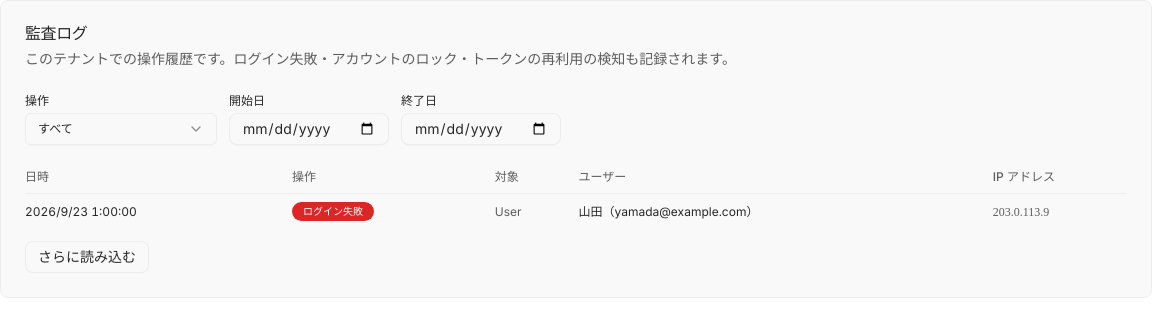
Test: AuditLogSection（#89） › 操作を日本語で表示し、続きのページを読み込める
This screenshot has width=1152, height=315.
Check: the text "ログイン失敗" is shown, box [292,202,374,221]
Click the button "さらに読み込む": (87, 257) [25,241,149,273]
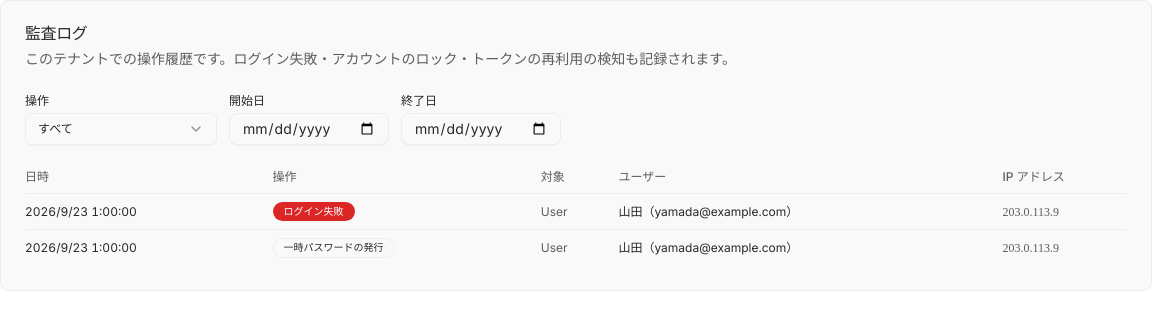
Check: the text "一時パスワードの発行" is shown, box [273,238,395,258]
Check: the button "さらに読み込む" is gone
